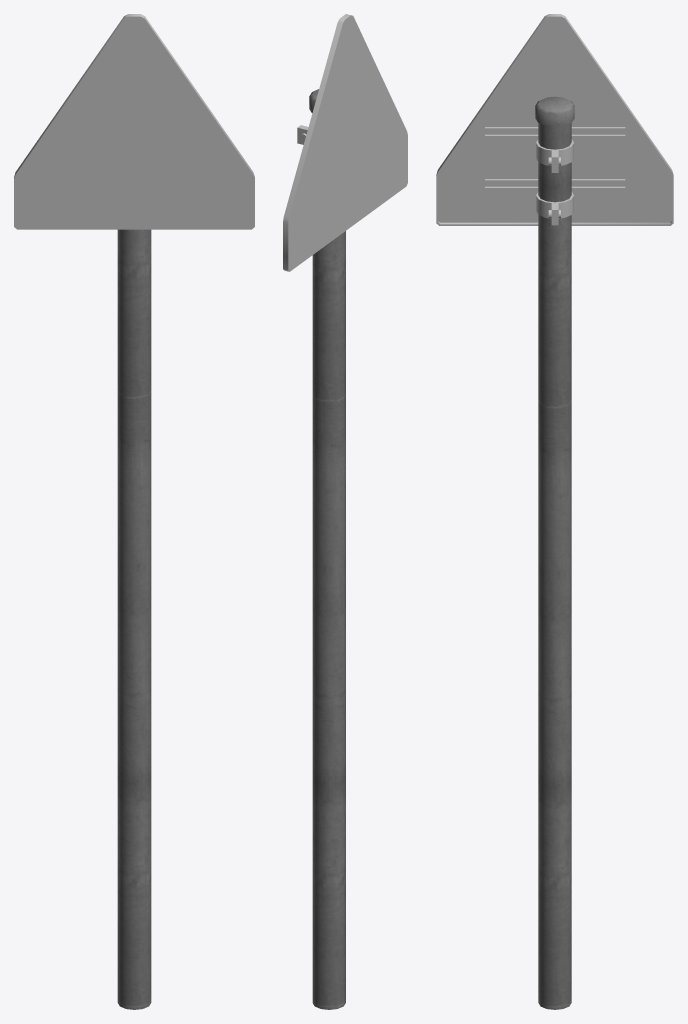
Rendered from SM_CrossingPole.fbx.
3 views of the same model, side by side, from view 1: azimuth 90°, elevation 25°; view 2: azimuth 150°, elevation 25°; view 3: azimuth 270°, elevation 25° (orthographic).
Visible parts, largest first — view 1: SM_CrossingPole_LOD0; view 2: SM_CrossingPole_LOD0; view 3: SM_CrossingPole_LOD0.
Part boxes in pixels (x1=…): SM_CrossingPole_LOD0: x1=14, y1=14, x2=254, y2=1009; SM_CrossingPole_LOD0: x1=283, y1=14, x2=407, y2=1009; SM_CrossingPole_LOD0: x1=436, y1=14, x2=673, y2=1009.
Bounding box in the file's own units: 14.11 × 59.79 × 273.
